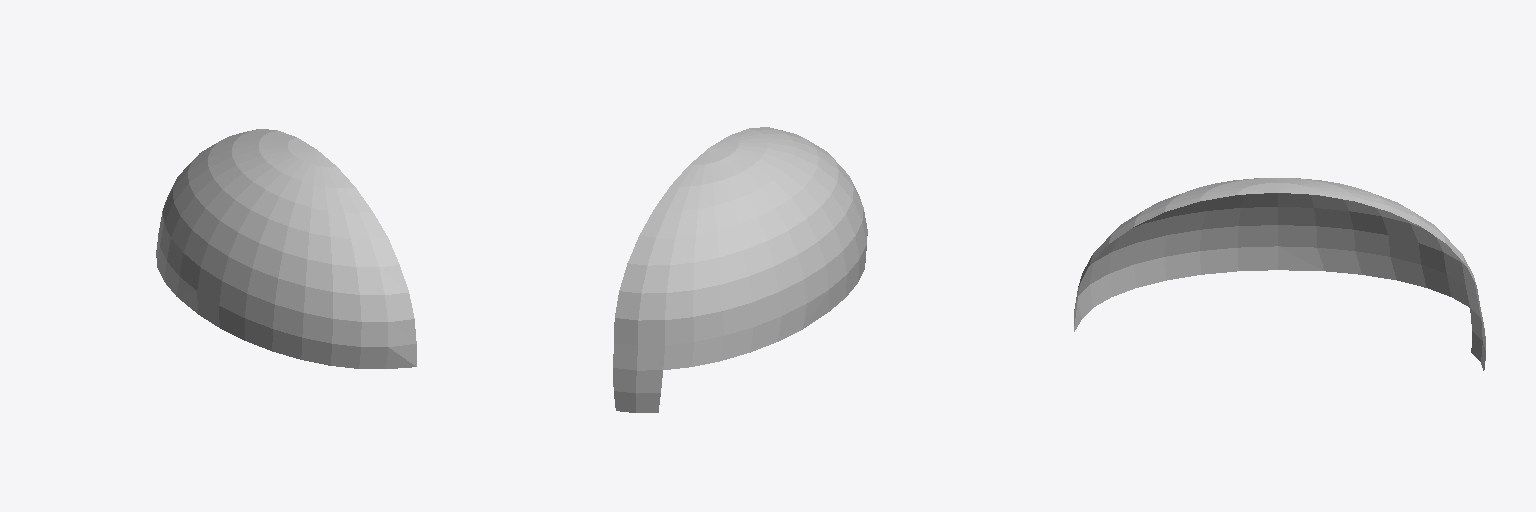
The model's file is plastic-black.obj.
The picture shows the model from 3 angles: view 1: azimuth 30°, elevation 25°; view 2: azimuth 150°, elevation 25°; view 3: azimuth 270°, elevation 25°; orthographic projection.
Visible parts, largest first — view 1: plastic-black_Sphere; view 2: plastic-black_Sphere; view 3: plastic-black_Sphere.
Part boxes in pixels (left/top/right/bottom): plastic-black_Sphere: left=156, top=129, right=416, bottom=368; plastic-black_Sphere: left=613, top=127, right=867, bottom=412; plastic-black_Sphere: left=1074, top=178, right=1485, bottom=370.
Bounding box in the file's own units: 0.2893 × 0.4259 × 0.8608.